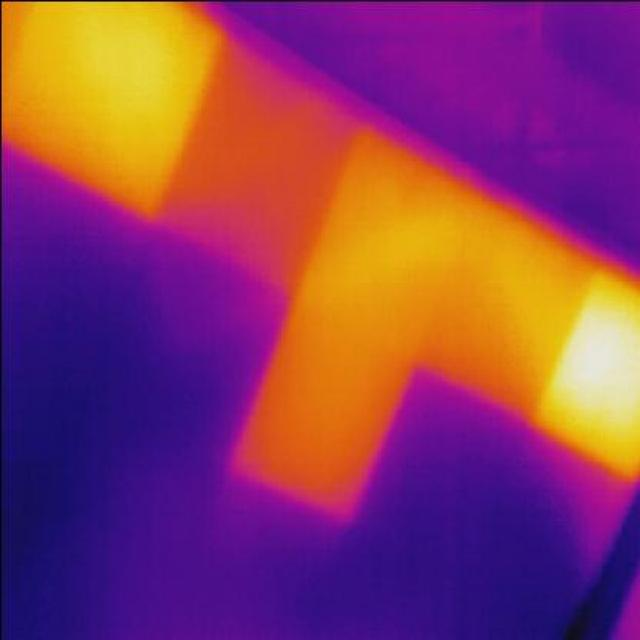hotspot: (0, 0, 215, 219), (530, 272, 639, 480)
